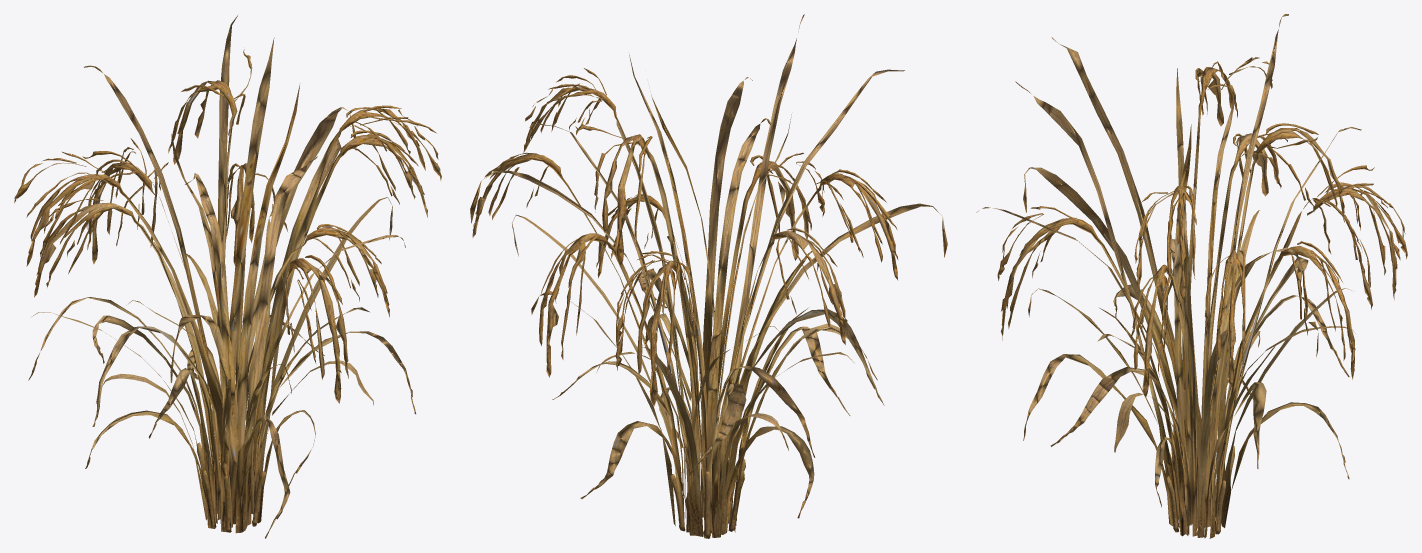
Rendered from sui_wither_004.glb.
The picture shows the model from 3 angles, left to right: view 1: azimuth 30°, elevation 25°; view 2: azimuth 150°, elevation 25°; view 3: azimuth 270°, elevation 25°; orthographic projection. The views are drawn at different scales.
Parts seen in each view (by area): view 1: tripo_node_5a4d18ab-04f6-4aea-8473-b2508ebefa3a; view 2: tripo_node_5a4d18ab-04f6-4aea-8473-b2508ebefa3a; view 3: tripo_node_5a4d18ab-04f6-4aea-8473-b2508ebefa3a.
Boxes of the visible parts, x1,y1,x2,y2 form: tripo_node_5a4d18ab-04f6-4aea-8473-b2508ebefa3a: (14,15,441,538); tripo_node_5a4d18ab-04f6-4aea-8473-b2508ebefa3a: (470,14,947,538); tripo_node_5a4d18ab-04f6-4aea-8473-b2508ebefa3a: (976,14,1407,538).
Size of the model in its own units: 0.5577 by 0.6 by 0.499.
Materials: 1 (1 with a texture image).
